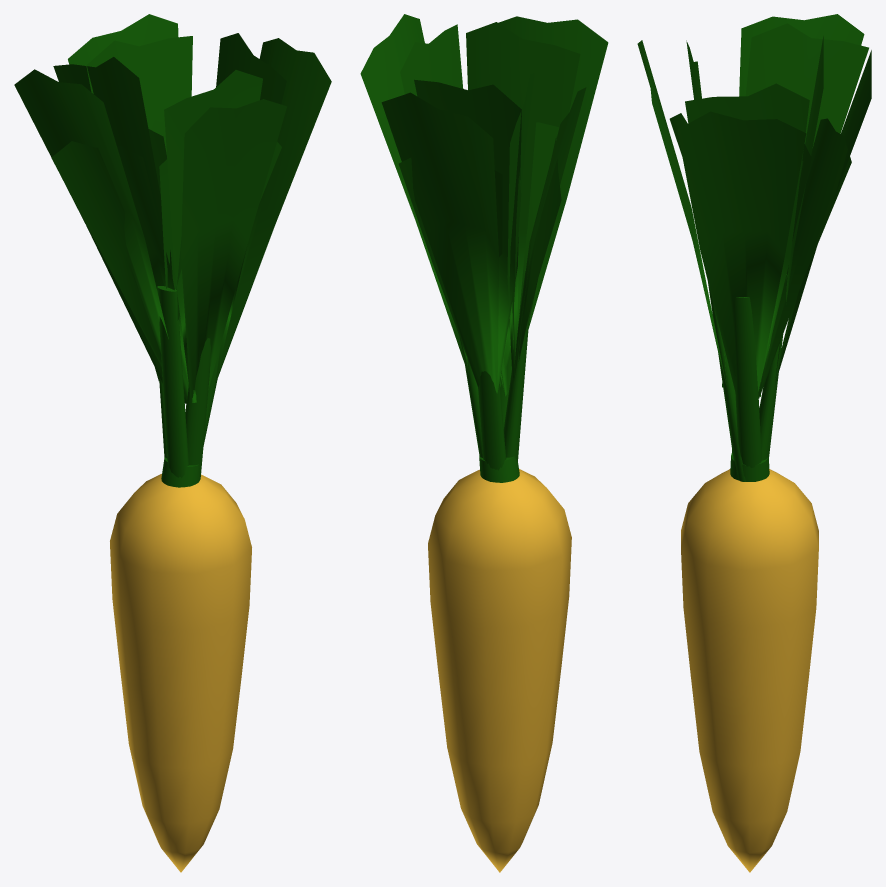
Rendered from carrot.fbx.
3 views of the same model, side by side, from view 1: azimuth 30°, elevation 25°; view 2: azimuth 150°, elevation 25°; view 3: azimuth 270°, elevation 25° (orthographic).
Visible parts, largest first — view 1: carrot, leaf3, leaf1, leaf2, leaf6, leaf, stalk1, stalk5, leaf5, stalk3; view 2: carrot, leaf, leaf3, leaf2, leaf1, leaf6, leaf5, stalk2, stalk1, leaf4, stalk3, stalk4; view 3: carrot, leaf2, leaf1, leaf4, stalk4, leaf, leaf3, stalk5, stalk2, stalk3.
Boxes of the visible parts, left/top/right/bottom form: carrot: left=110, top=474, right=251, bottom=872; leaf3: left=164, top=70, right=286, bottom=398; leaf1: left=14, top=57, right=172, bottom=383; leaf2: left=215, top=33, right=331, bottom=384; leaf6: left=51, top=129, right=196, bottom=403; leaf: left=68, top=14, right=192, bottom=380; stalk1: left=157, top=286, right=188, bottom=477; stalk5: left=185, top=338, right=210, bottom=478; leaf5: left=159, top=159, right=181, bottom=320; stalk3: left=161, top=457, right=200, bottom=487; carrot: left=428, top=469, right=571, bottom=872; leaf: left=381, top=79, right=521, bottom=393; leaf3: left=466, top=16, right=608, bottom=329; leaf2: left=360, top=14, right=468, bottom=374; leaf1: left=507, top=70, right=586, bottom=386; leaf6: left=512, top=136, right=561, bottom=361; leaf5: left=499, top=122, right=559, bottom=387; stalk2: left=478, top=371, right=506, bottom=470; stalk1: left=503, top=271, right=529, bottom=461; leaf4: left=398, top=157, right=502, bottom=377; stalk3: left=479, top=456, right=519, bottom=482; stalk4: left=465, top=358, right=482, bottom=457; carrot: left=681, top=469, right=818, bottom=872; leaf2: left=677, top=83, right=809, bottom=393; leaf1: left=739, top=14, right=868, bottom=147; leaf4: left=758, top=118, right=851, bottom=398; stalk4: left=734, top=297, right=761, bottom=467; leaf: left=775, top=36, right=871, bottom=382; leaf3: left=637, top=40, right=726, bottom=384; stalk5: left=708, top=282, right=746, bottom=481; stalk2: left=759, top=274, right=787, bottom=460; stalk3: left=730, top=453, right=769, bottom=481.
Bounding box in the file's own units: 3.28 × 11.34 × 2.91.
